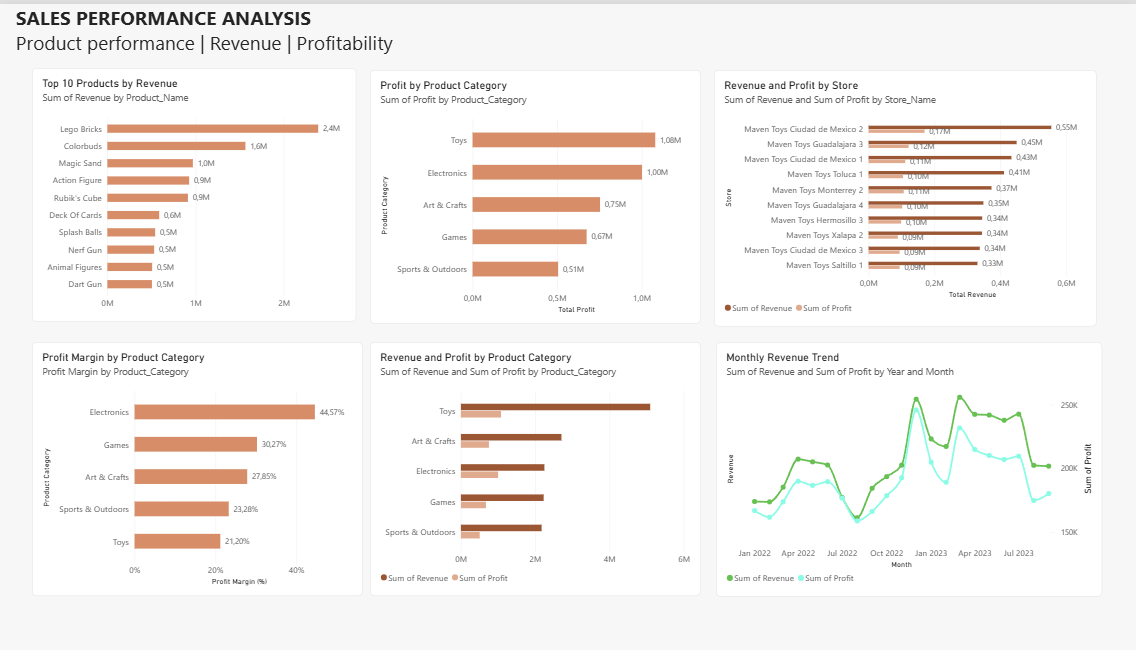

The page's visual inventory and layout, read from the dashboard file:
{"tool":"powerbi","page":{"name":"Sales Performance","canvas":[1920,1080],"ordinal":1},"visuals":[{"type":"textbox","box":[10,0,702.4,107],"z":0},{"type":"clusteredBarChart","title":"Top 10 Products by Revenue","fields":{"Category":["vw_SalesSummary.Product_Name"],"Y":["Sum(vw_SalesSummary.Revenue)"]},"box":[64.1,107.5,542.6,424.7],"z":1000},{"type":"clusteredBarChart","title":"Profit by Product Category","fields":{"Category":["vw_SalesSummary.Product_Category"],"Y":["Sum(vw_SalesSummary.Profit)"]},"box":[629.3,109.2,553,424.7],"z":2000},{"type":"lineChart","title":"Monthly Revenue Trend","fields":{"Category":["vw_MonthlySalesTrend.SalesMonth.Variation.Date Hierarchy.Year","vw_MonthlySalesTrend.SalesMonth.Variation.Date Hierarchy.Month"],"Y":["Sum(vw_MonthlySalesTrend.Revenue)"],"Y2":["Sum(vw_MonthlySalesTrend.Profit)"]},"box":[1206.7,565.2,646,426.2],"z":3000},{"type":"clusteredBarChart","title":"Revenue and Profit by Store","fields":{"Category":["vw_SalesSummary.Store_Name"],"Y":["Sum(vw_SalesSummary.Revenue)","Sum(vw_SalesSummary.Profit)"]},"box":[1205.1,108.9,640,428.9],"z":4000},{"type":"clusteredBarChart","title":"Profit Margin by Product Category","fields":{"Category":["vw_SalesSummary.Product_Category"],"Y":["vw_SalesSummary.Profit Margin"]},"box":[63.6,565.3,553,425],"z":5000},{"type":"clusteredBarChart","title":"Revenue and Profit by Product Category","fields":{"Category":["vw_SalesSummary.Product_Category"],"Y":["Sum(vw_SalesSummary.Revenue)","Sum(vw_SalesSummary.Profit)"]},"box":[629,565,553,425],"z":6000}]}

Visuals, with their boxes in screenshot pixels (x1, y1, x2, y2), scaled from the page's 1920x1080 canvas onto the 1136x650 screenshot:
textbox: [x1=6, y1=0, x2=422, y2=64]
"Top 10 Products by Revenue" clusteredBarChart: [x1=38, y1=65, x2=359, y2=320]
"Profit by Product Category" clusteredBarChart: [x1=372, y1=66, x2=700, y2=321]
"Monthly Revenue Trend" lineChart: [x1=714, y1=340, x2=1096, y2=597]
"Revenue and Profit by Store" clusteredBarChart: [x1=713, y1=66, x2=1092, y2=324]
"Profit Margin by Product Category" clusteredBarChart: [x1=38, y1=340, x2=365, y2=596]
"Revenue and Profit by Product Category" clusteredBarChart: [x1=372, y1=340, x2=699, y2=596]
